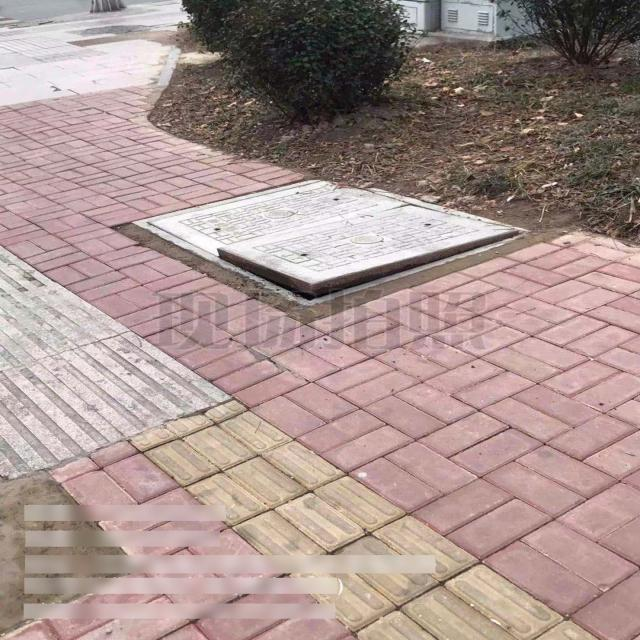Lose: (132, 180, 530, 306)
